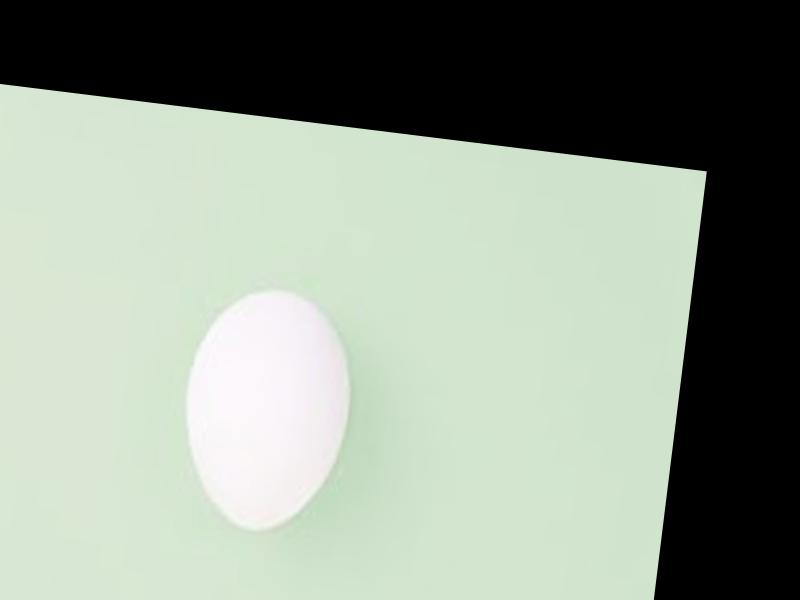Eggs: (171, 277, 364, 540)
